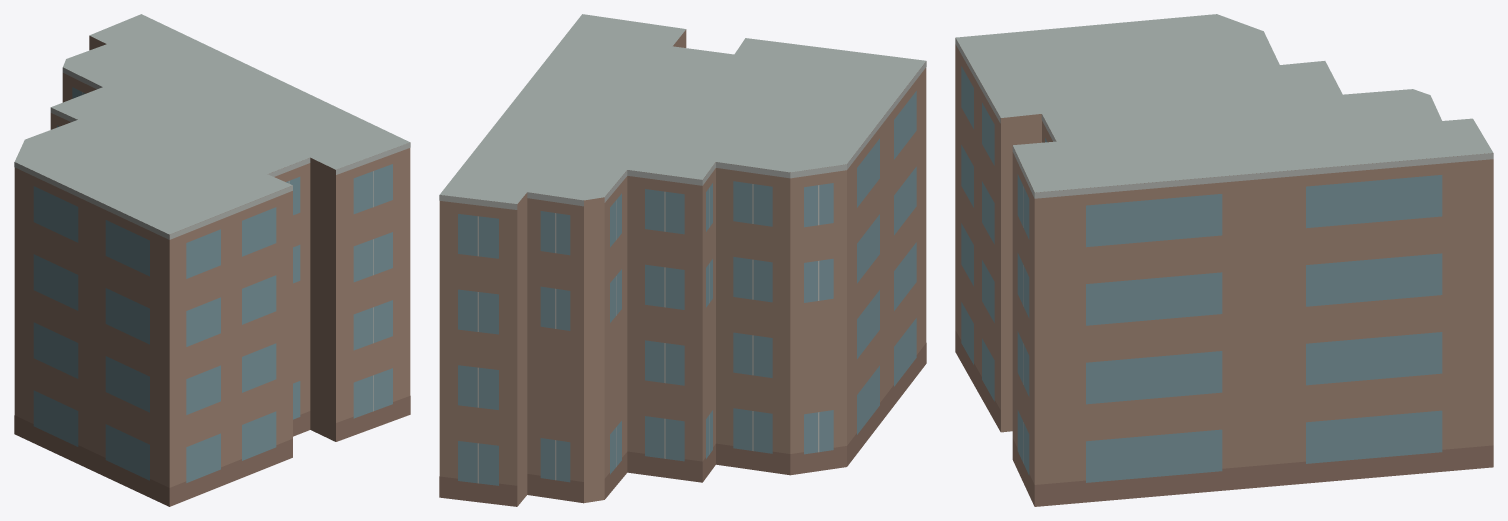
File: survey-upis-32946827.glb
3 renders of one model, left to right at view 1: azimuth 30°, elevation 25°; view 2: azimuth 150°, elevation 25°; view 3: azimuth 270°, elevation 25°, orthographic. The views are drawn at different scales.
Parts seen in each view (by area): view 1: survey-upis-32946827.tmp; view 2: survey-upis-32946827.tmp; view 3: survey-upis-32946827.tmp.
Part boxes in pixels (x1,y1,x2,y2): survey-upis-32946827.tmp: (14, 14, 410, 506); survey-upis-32946827.tmp: (439, 14, 926, 506); survey-upis-32946827.tmp: (955, 14, 1493, 506).
Size of the model in its own units: 15.12 by 12.4 by 19.25.
